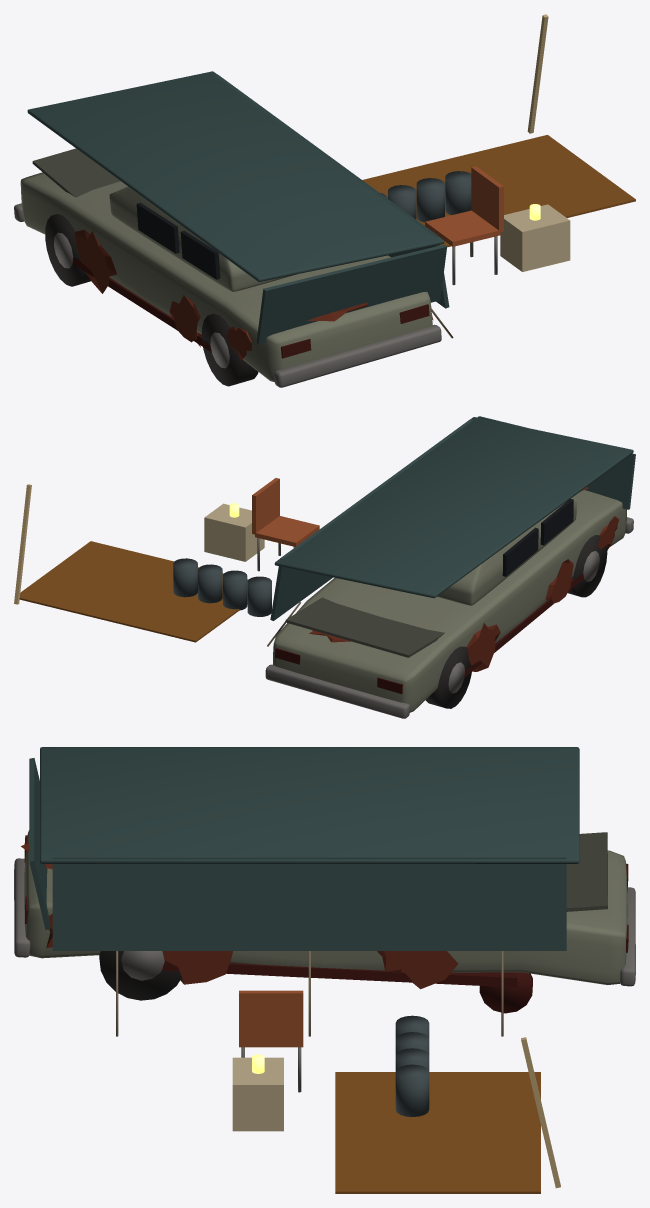
The model's file is garage_cars_c.glb.
3 views of the same model, one above another, from view 1: azimuth 30°, elevation 25°; view 2: azimuth 150°, elevation 25°; view 3: azimuth 270°, elevation 25° (orthographic). The views are drawn at different scales.
Visible parts, largest first — view 1: tarp_top, body_low, mat, tarp_tail, crate, bumper_-1, cabin, bonnet, tyre_-14_7, seat, back, tyre_14_7 (+11 smaller); view 2: tarp_top, body_low, mat, bonnet, tarp_side, crate, cabin, bumper_1, tarp_tail, tyre_14_7, seat, back (+11 smaller); view 3: tarp_top, tarp_side, mat, body_low, crate, back, sill_rot, bonnet, rust_side_0_-1, tyre_-14_-7, tarp_tail, jug_3 (+6 smaller).
Part boxes in pixels (x1,y1,x2,y2): tarp_top: [27, 71, 444, 281]; body_low: [20, 172, 432, 381]; mat: [362, 135, 635, 247]; tarp_tail: [256, 244, 446, 344]; crate: [500, 204, 570, 271]; bumper_-1: [274, 324, 441, 387]; cabin: [109, 186, 296, 291]; bonnet: [32, 148, 120, 197]; tyre_-14_7: [201, 313, 258, 386]; seat: [425, 210, 500, 246]; back: [471, 166, 503, 232]; tyre_14_7: [45, 214, 90, 286]; tarp_top: [274, 417, 633, 598]; body_low: [273, 490, 626, 712]; mat: [19, 541, 248, 642]; bonnet: [285, 597, 444, 657]; tarp_side: [270, 419, 472, 620]; crate: [204, 503, 264, 561]; cabin: [437, 501, 576, 605]; bumper_1: [265, 664, 409, 718]; tarp_tail: [477, 416, 635, 509]; tyre_14_7: [425, 646, 471, 708]; seat: [255, 516, 319, 546]; back: [252, 478, 279, 534]; tarp_top: [40, 747, 579, 863]; tarp_side: [52, 857, 566, 950]; mat: [335, 1072, 540, 1193]; body_low: [24, 830, 627, 984]; crate: [232, 1057, 283, 1131]; back: [239, 990, 303, 1045]; sill_rot: [161, 961, 517, 987]; bonnet: [566, 832, 607, 911]; rust_side_0_-1: [377, 951, 458, 989]; tyre_-14_-7: [99, 951, 181, 1000]; tarp_tail: [29, 758, 50, 929]; jug_3: [395, 1064, 429, 1116].
Size of the model in its own units: 5.27 by 1.54 by 4.84.
